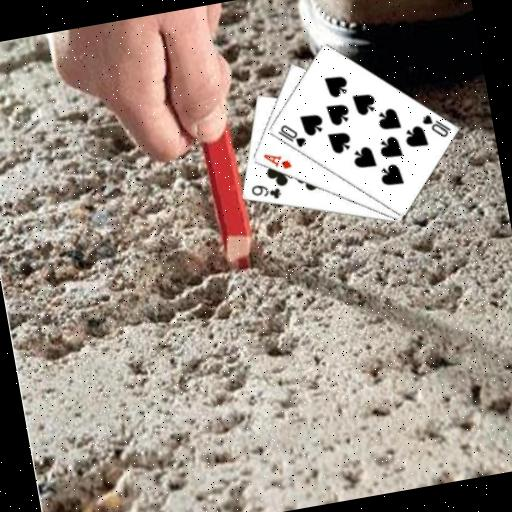10S: (417, 108, 453, 143), (273, 118, 308, 152)
9C: (247, 178, 284, 205)
AD: (259, 146, 294, 174)
